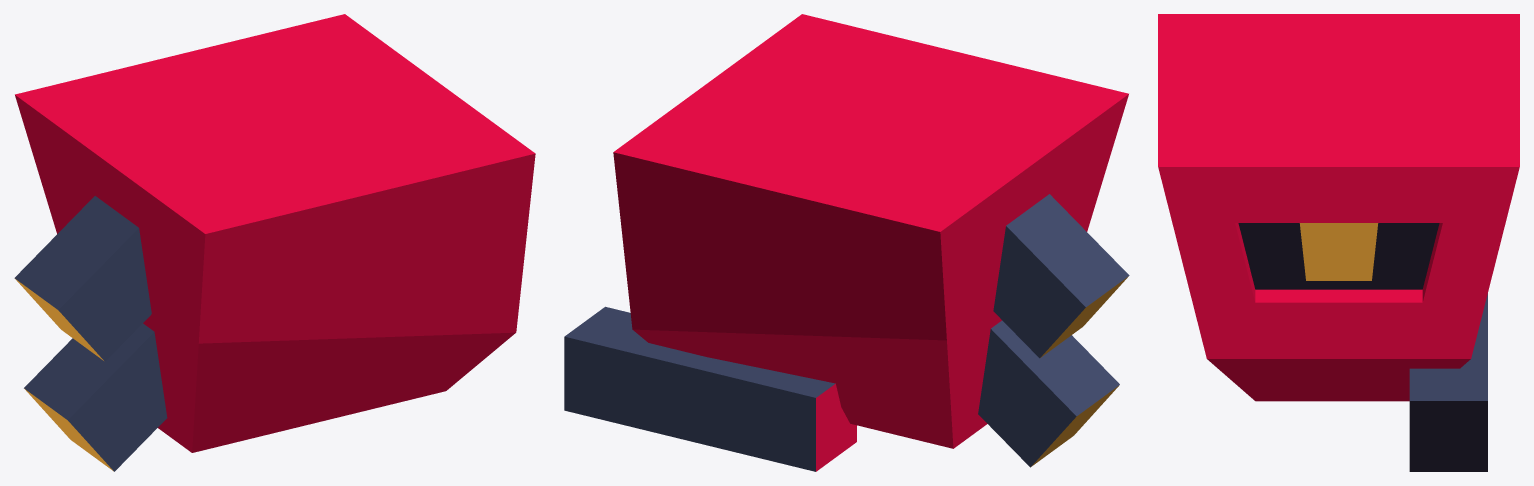
Rendered from fly_easydrone.fbx.
3 renders of one model, left to right at view 1: azimuth 30°, elevation 25°; view 2: azimuth 150°, elevation 25°; view 3: azimuth 270°, elevation 25°, orthographic. The views are drawn at different scales.
Parts seen in each view (by area): view 1: Cube.005; view 2: Cube.005; view 3: Cube.005.
Part boxes in pixels (box(x1,y1,x2,y2)): Cube.005: box(14, 14, 535, 471); Cube.005: box(564, 14, 1129, 471); Cube.005: box(1158, 14, 1519, 471).
Bounding box in the file's own units: 370 × 218 × 260.
